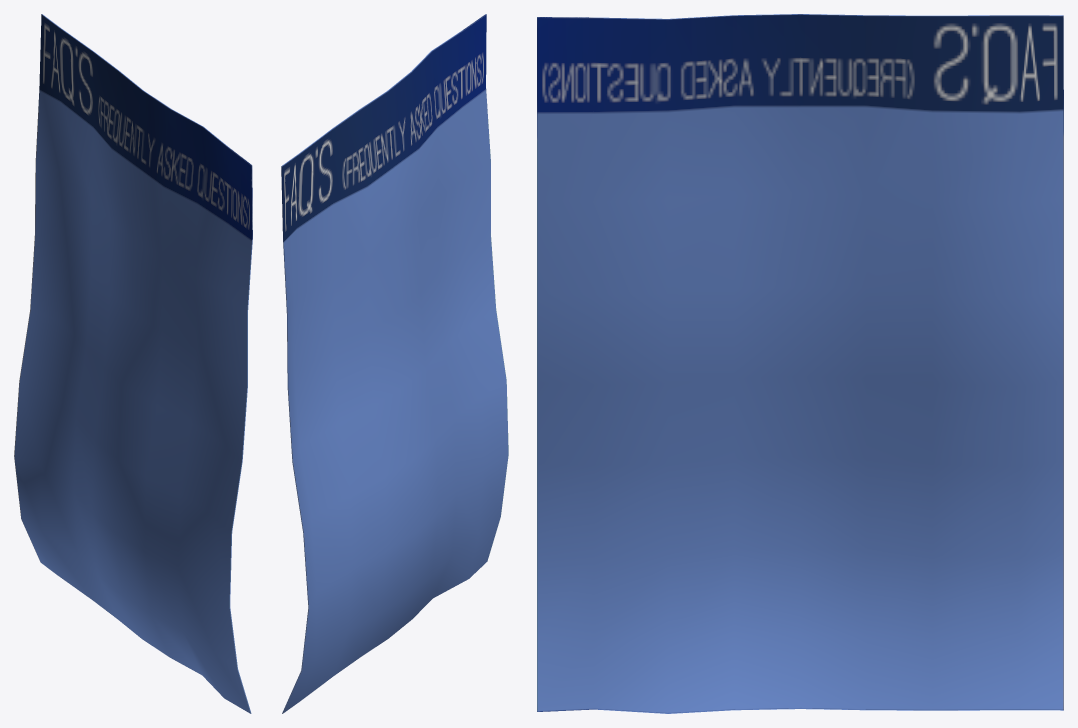
The model's file is Poster07_3.FBX.
3 views of the same model, side by side, from view 1: azimuth 30°, elevation 25°; view 2: azimuth 150°, elevation 25°; view 3: azimuth 270°, elevation 25° (orthographic). The views are drawn at different scales.
Parts seen in each view (by area): view 1: Poster07_3; view 2: Poster07_3; view 3: Poster07_3.
Part boxes in pixels (box(x1,y1,x2,y2)): Poster07_3: box(14, 14, 252, 713); Poster07_3: box(281, 14, 508, 713); Poster07_3: box(537, 14, 1063, 713).
Size of the model in its own units: 2.7 by 38.55 by 26.48.
